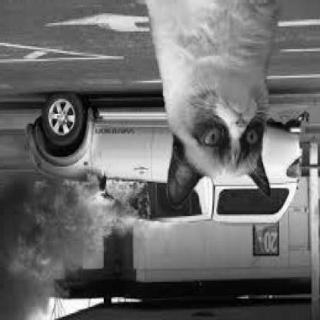Smoke: (60, 238, 94, 268)
